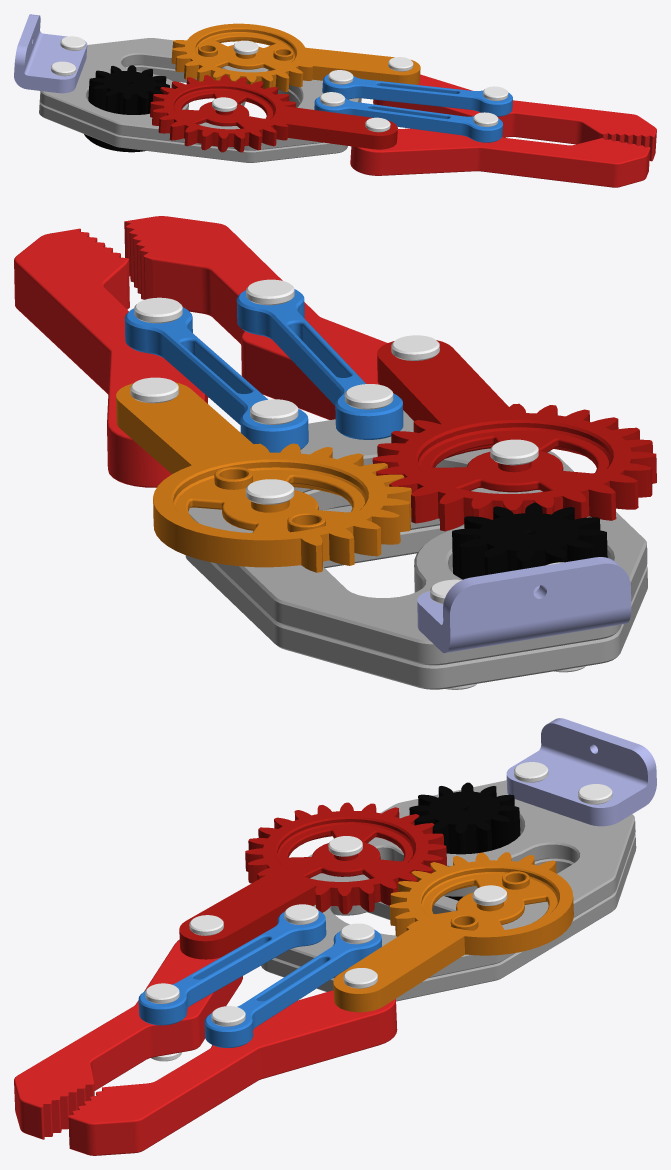
The model's file is custom.gltf.
3 views of the same model, one above another, from view 1: azimuth 30°, elevation 25°; view 2: azimuth 150°, elevation 25°; view 3: azimuth 270°, elevation 25° (orthographic). The views are drawn at different scales.
Parts seen in each view (by area): view 1: Solid1 (×20); view 2: Solid1 (×18); view 3: Solid1 (×11).
Boxes of the visible parts, bbox=[...] form: Solid1 (×20): bbox=[14, 14, 656, 187]; Solid1 (×18): bbox=[14, 216, 656, 689]; Solid1 (×11): bbox=[14, 718, 656, 1155].
Bounding box in the file's own units: 0.1087 × 0.0206 × 0.0934.
